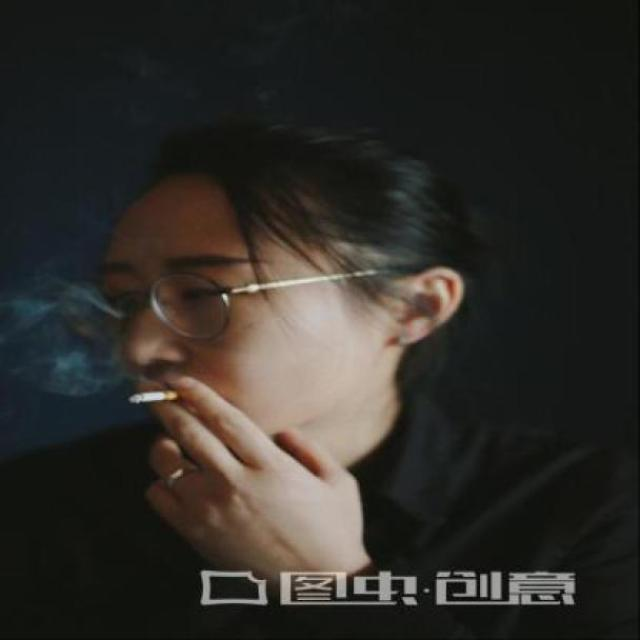rokok: (124, 390, 182, 406)
